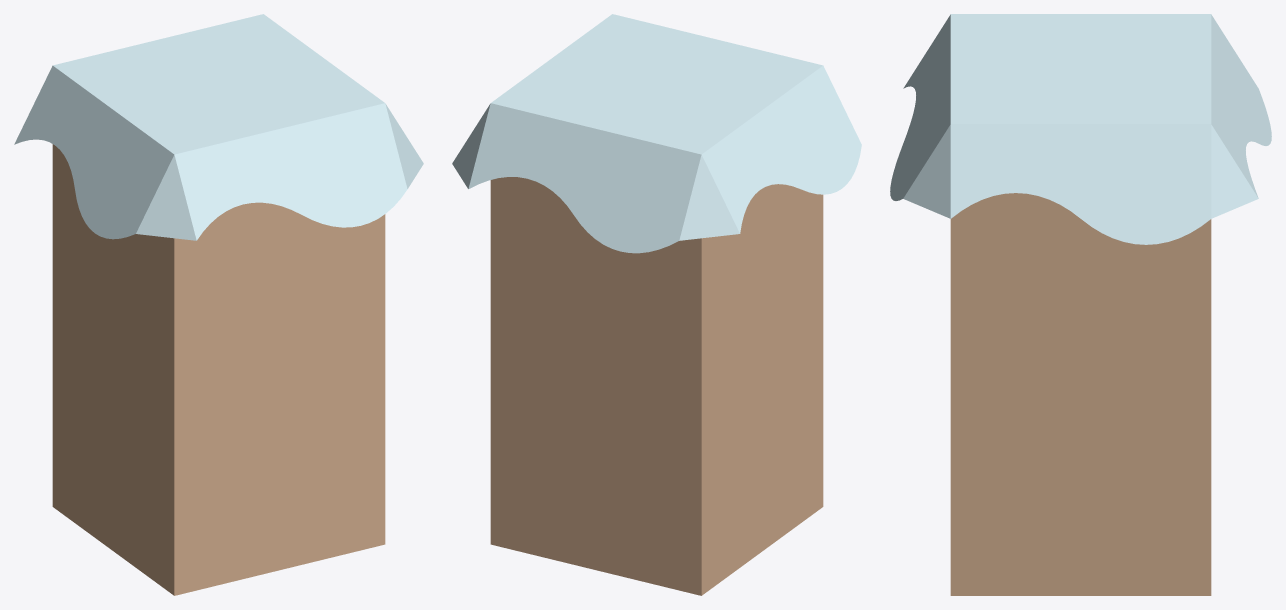
Rendered from blockSnowQuarter.glb.
3 renders of one model, left to right at view 1: azimuth 30°, elevation 25°; view 2: azimuth 150°, elevation 25°; view 3: azimuth 270°, elevation 25°, orthographic. The views are drawn at different scales.
Visible parts, largest first — view 1: blockSnowQuarter(Clone); view 2: blockSnowQuarter(Clone); view 3: blockSnowQuarter(Clone).
Part boxes in pixels (x1,y1,x2,y2): blockSnowQuarter(Clone): (14, 14, 423, 595); blockSnowQuarter(Clone): (452, 14, 861, 595); blockSnowQuarter(Clone): (890, 14, 1271, 595).
Size of the model in its own units: 0.733 by 1 by 0.733.
